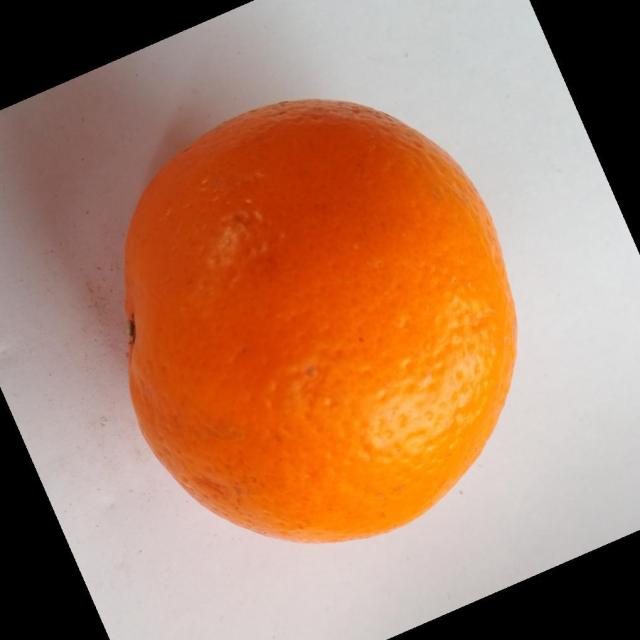fresh orange: (122, 97, 519, 544)
